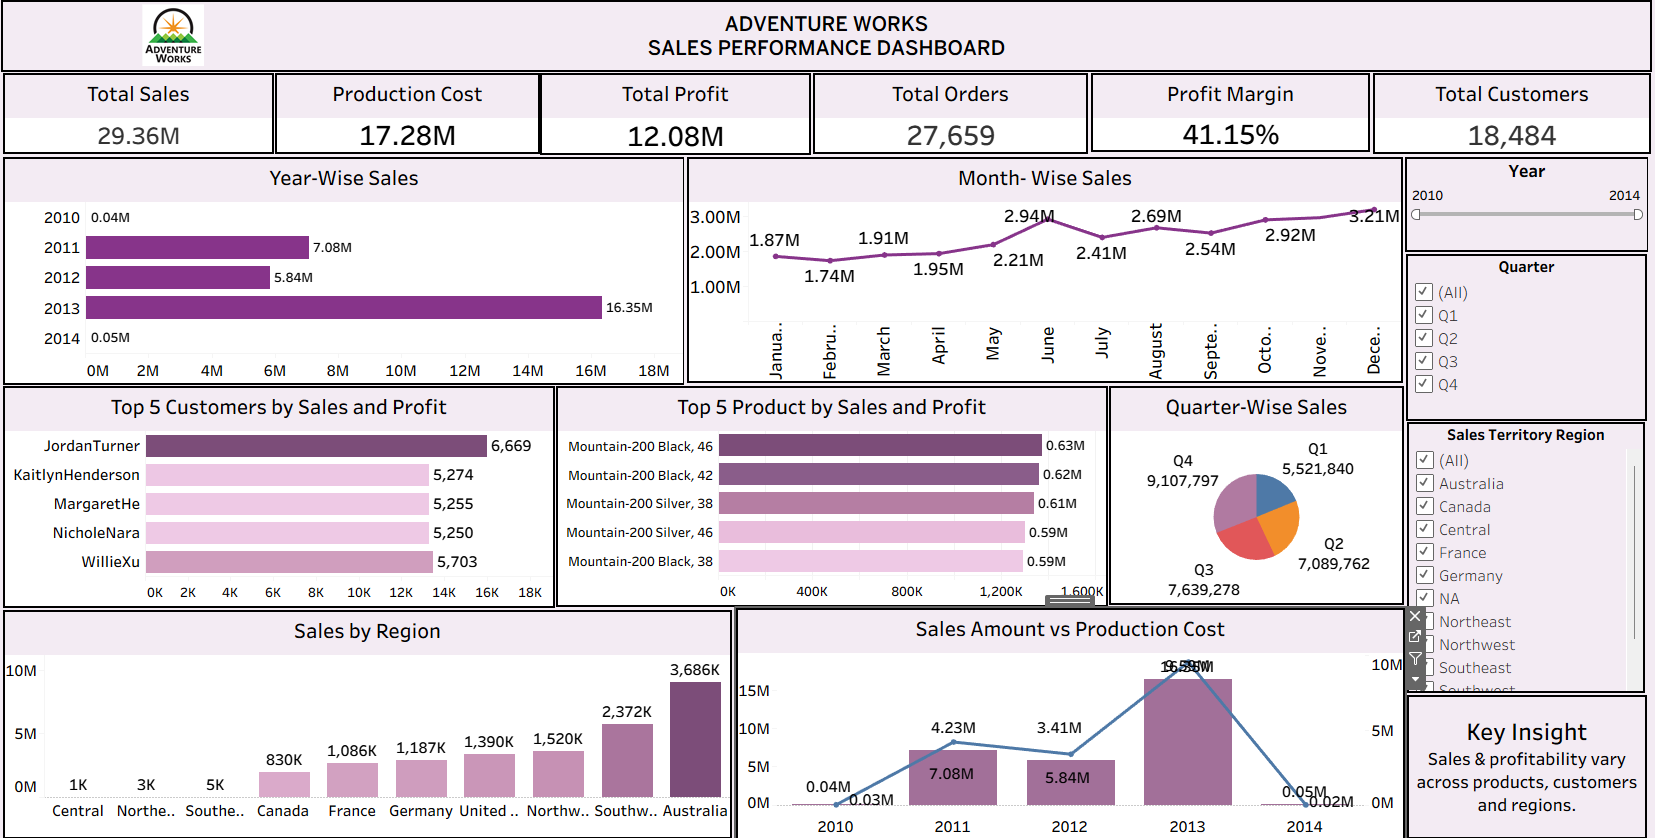

This screenshot's page, from the dashboard's own definition file:
{"tool":"powerbi","page":{"name":"Dashboard","canvas":[1920,1080],"ordinal":8},"visuals":[{"type":"clusteredBarChart","title":"Year-wise Sales","fields":{"Category":["SALES.Year"],"Y":["Sum(SALES.SalesAmount.1)"]},"box":[474,258,456,410],"z":0},{"type":"lineChart","title":"Month-wise Sales","fields":{"Category":["SALES.Monthfullname"],"Y":["Sum(SALES.SalesAmount.1)"]},"box":[944,258,516,410],"z":1000},{"type":"pieChart","title":"Quarter-wise Sales","fields":{"Category":["SALES.Quarter_New"],"Y":["Sum(SALES.SalesAmount.1)"]},"box":[1478,258,418,410],"z":2000},{"type":"lineClusteredColumnComboChart","title":"Sales Amount vs Production Cost by Year","fields":{"Category":["SALES.Year"],"Y":["Sum(SALES.SalesAmount.1)"],"Y2":["Sum(SALES.TotalProductCost)"]},"box":[620,690,620,368],"z":3000},{"type":"clusteredBarChart","title":"Top 10 Products by Sales","fields":{"Category":["SALES.EnglishProductName"],"Y":["Sum(SALES.SalesAmount.1)"]},"box":[1260,690,636,368],"z":4000},{"type":"clusteredColumnChart","title":"Sales by Region","fields":{"Category":["DimSalesTerritory.SalesTerritoryRegion"],"Y":["Sum(SALES.SalesAmount.1)"]},"box":[8,258,446,410],"z":5000},{"type":"cardVisual","title":"Total Sales","fields":{"Data":["Sum(SALES.SalesAmount.1)"]},"box":[8,112,256,128],"z":6000},{"type":"cardVisual","title":"Total Production Cost","fields":{"Data":["Sum(SALES.TotalProductCost)"]},"box":[270,112,408,126],"z":7000},{"type":"cardVisual","title":"Total Profit","fields":{"Data":["Sum(SALES.Profit)"]},"box":[688,112,256,128],"z":8000},{"type":"cardVisual","title":"Total Quantity","fields":{"Data":["Sum(SALES.OrderQuantity)"]},"box":[960,112,280,128],"z":9000},{"type":"textbox","title":"  ADVENTURE WORKS","box":[0,0,1240,104],"z":10000},{"type":"image","box":[0,0,288,96],"z":11000},{"type":"slicer","title":"Sales Territory Region","fields":{"Values":["SALES.SalesTerritoryKey"]},"box":[1248,120,312,120],"z":12000},{"type":"clusteredBarChart","title":"Top 10 Customers by Sales","fields":{"Category":["SALES.CustomerFullName"],"Y":["Sum(SALES.SalesAmount.1)"]},"box":[10,690,596,368],"z":13000},{"type":"slicer","title":"Year","fields":{"Values":["SALES.OrderDate.Variation.Date Hierarchy.Year"]},"box":[1248,0,640,112],"z":14000},{"type":"slicer","title":"Quarter","fields":{"Values":["SALES.OrderDate.Variation.Date Hierarchy.Quarter"]},"box":[1568,128,336,112],"z":15000}]}

Visuals, with their boxes on the page's 1920x1080 design canvas (x1, y1, x2, y2). These are canvas units, not pixel positions in the 1655x838 screenshot, which may show the page scaled, cropped or inside an application window:
"Year-wise Sales" clusteredBarChart: [left=474, top=258, right=930, bottom=668]
"Month-wise Sales" lineChart: [left=944, top=258, right=1460, bottom=668]
"Quarter-wise Sales" pieChart: [left=1478, top=258, right=1896, bottom=668]
"Sales Amount vs Production Cost by Year" lineClusteredColumnComboChart: [left=620, top=690, right=1240, bottom=1058]
"Top 10 Products by Sales" clusteredBarChart: [left=1260, top=690, right=1896, bottom=1058]
"Sales by Region" clusteredColumnChart: [left=8, top=258, right=454, bottom=668]
"Total Sales" cardVisual: [left=8, top=112, right=264, bottom=240]
"Total Production Cost" cardVisual: [left=270, top=112, right=678, bottom=238]
"Total Profit" cardVisual: [left=688, top=112, right=944, bottom=240]
"Total Quantity" cardVisual: [left=960, top=112, right=1240, bottom=240]
"  ADVENTURE WORKS" textbox: [left=0, top=0, right=1240, bottom=104]
image: [left=0, top=0, right=288, bottom=96]
"Sales Territory Region" slicer: [left=1248, top=120, right=1560, bottom=240]
"Top 10 Customers by Sales" clusteredBarChart: [left=10, top=690, right=606, bottom=1058]
"Year" slicer: [left=1248, top=0, right=1888, bottom=112]
"Quarter" slicer: [left=1568, top=128, right=1904, bottom=240]
